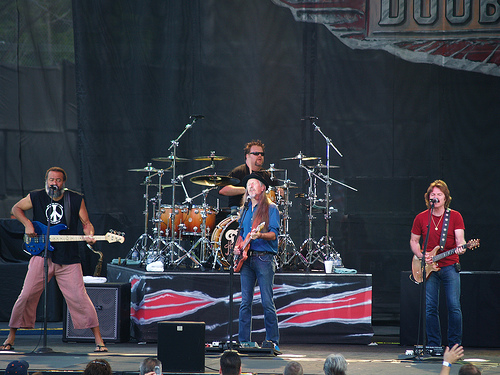without_mask: (43, 168, 66, 198), (243, 140, 266, 170), (427, 183, 449, 213), (245, 175, 266, 201)
